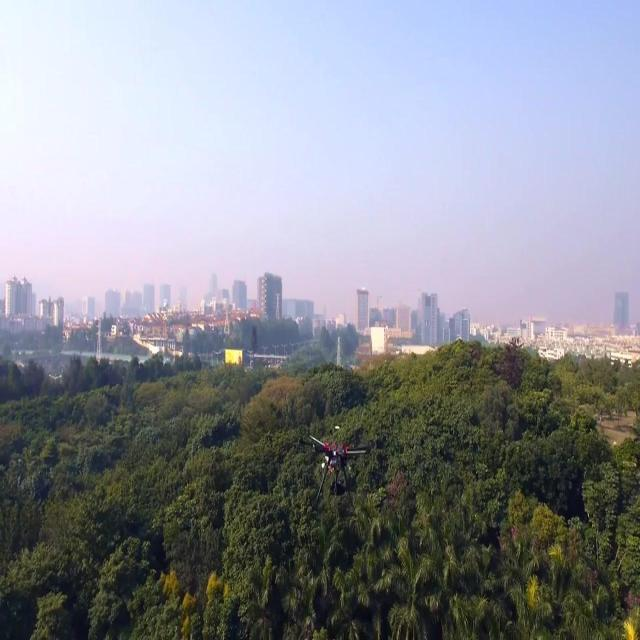drone: (303, 426, 371, 509)
